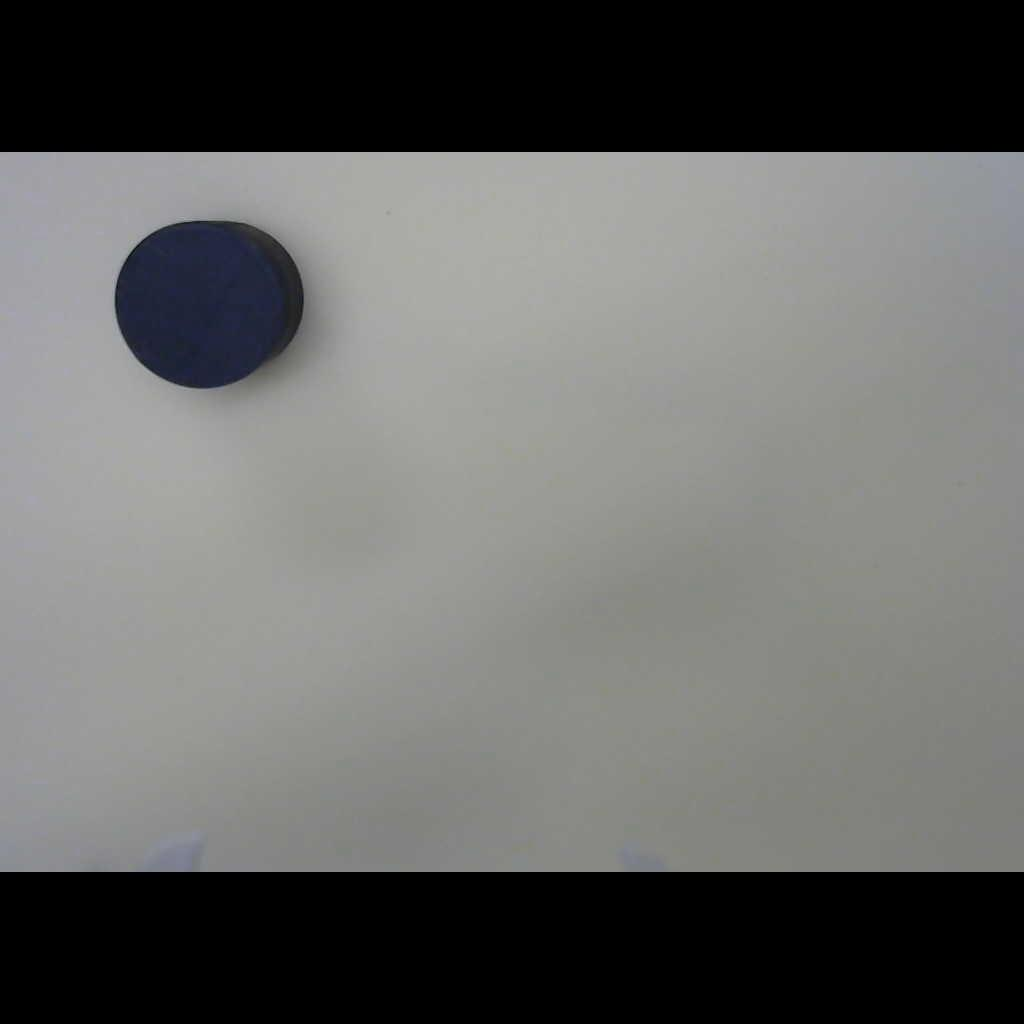circle: (105, 215, 325, 396)
